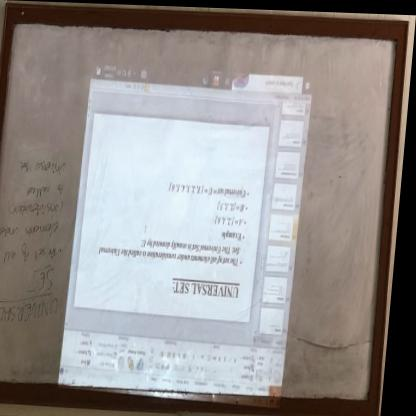Handwritten text: (0, 296, 68, 335), (0, 217, 67, 243), (3, 244, 65, 268), (15, 156, 75, 179), (7, 199, 73, 219), (31, 267, 63, 298), (21, 180, 71, 199)
Whiteboard: (0, 18, 409, 407)
